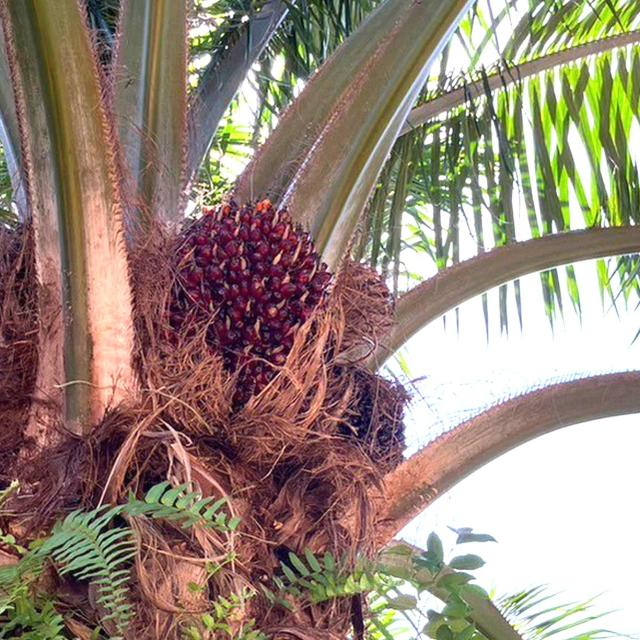ripe: (170, 202, 320, 402)
